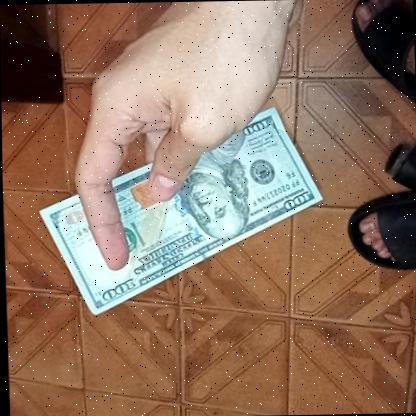dollar_front: (34, 104, 324, 315)
